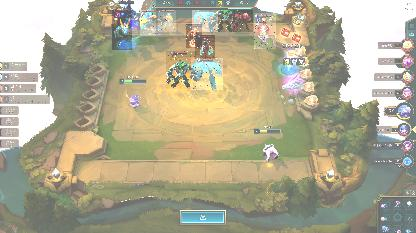1_aurelionsol: (140, 0, 156, 36)
1_braum: (233, 10, 253, 32)
1_joy: (186, 24, 202, 48)
1_sohm: (112, 10, 132, 50)
1_zac: (192, 10, 218, 32)
1_zeri: (158, 10, 176, 32)
2_aurelionsol: (118, 0, 138, 26)
2_malphite: (166, 51, 196, 89), (209, 10, 235, 32)
2_nilah: (254, 13, 276, 49)
2_taliyah: (195, 35, 215, 59)
2_zac: (191, 58, 223, 90)
